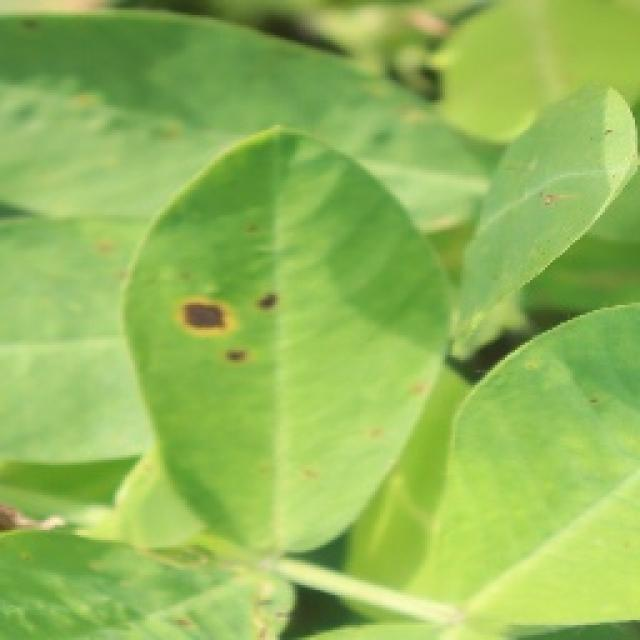Early_leaf_spot: (183, 278, 293, 378), (389, 347, 447, 432)
